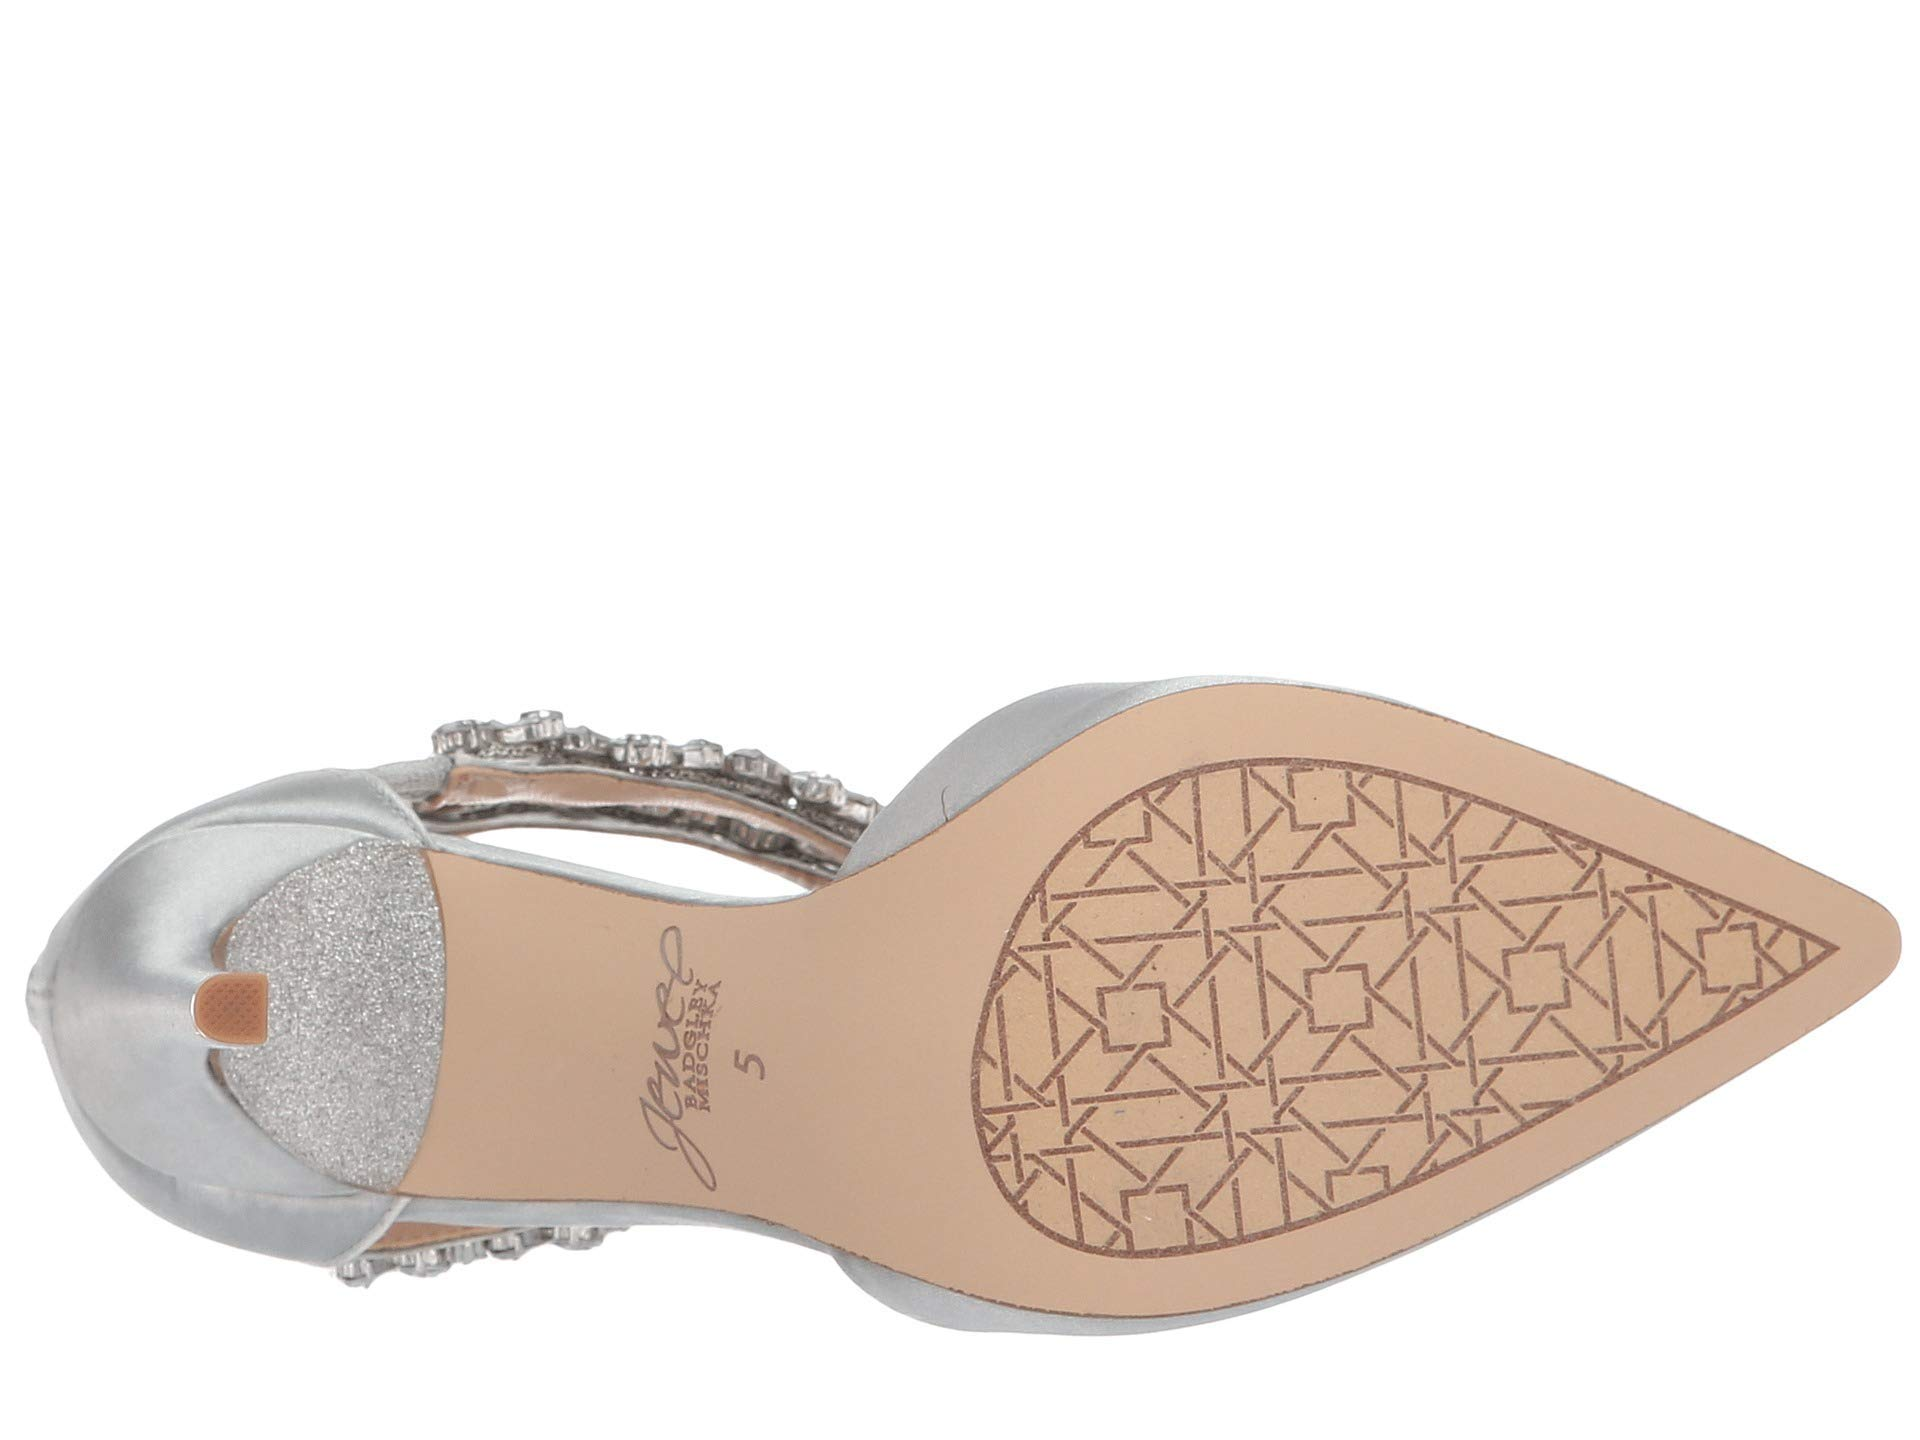exclude: (299, 667, 918, 1325)
line: (1095, 812, 1613, 1128)
quad: (1095, 812, 1613, 1128), (190, 973, 275, 1048)
triangle: (1095, 812, 1613, 1128)
